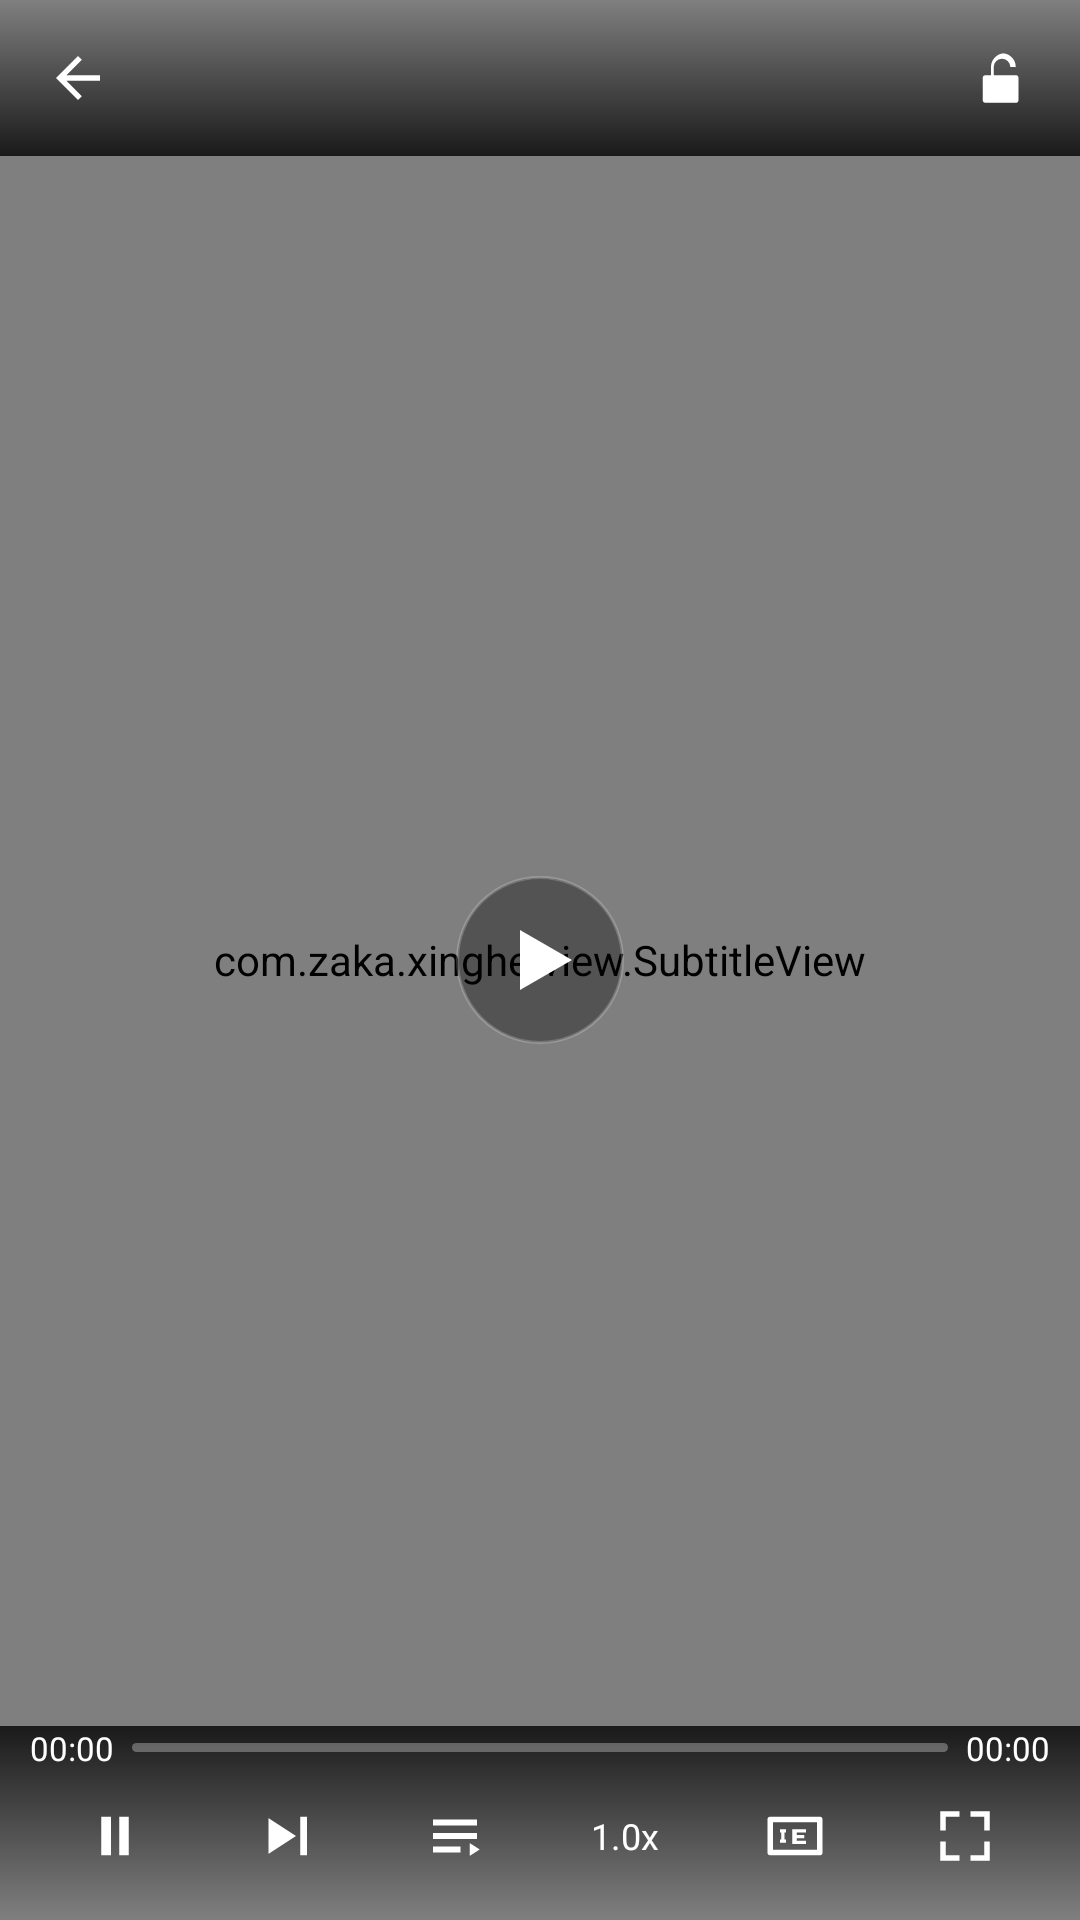

Icon click points for this 1080 x 1920 phone screenshot, format (x,y):
play: (539,960)
